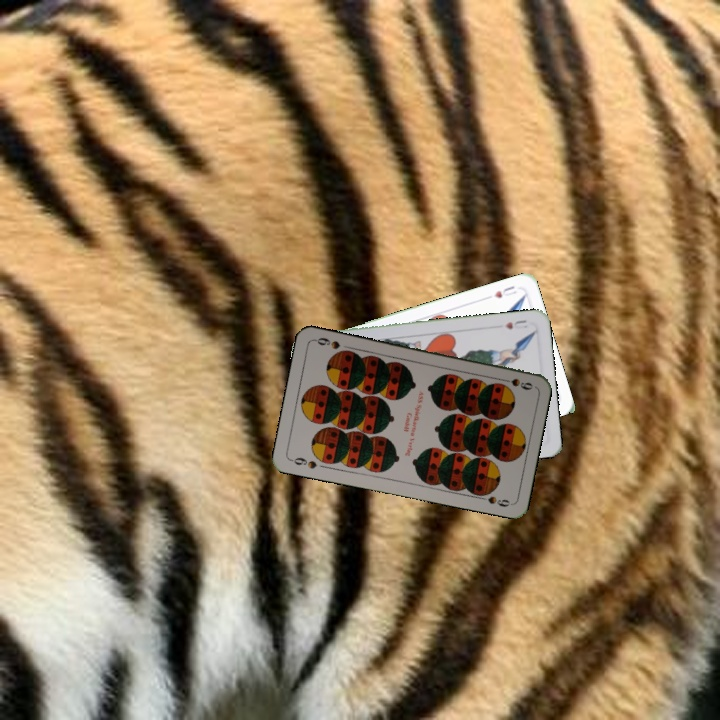HU: (490, 282, 519, 301), (501, 316, 530, 332)
S9: (495, 374, 535, 392), (287, 453, 319, 471)
